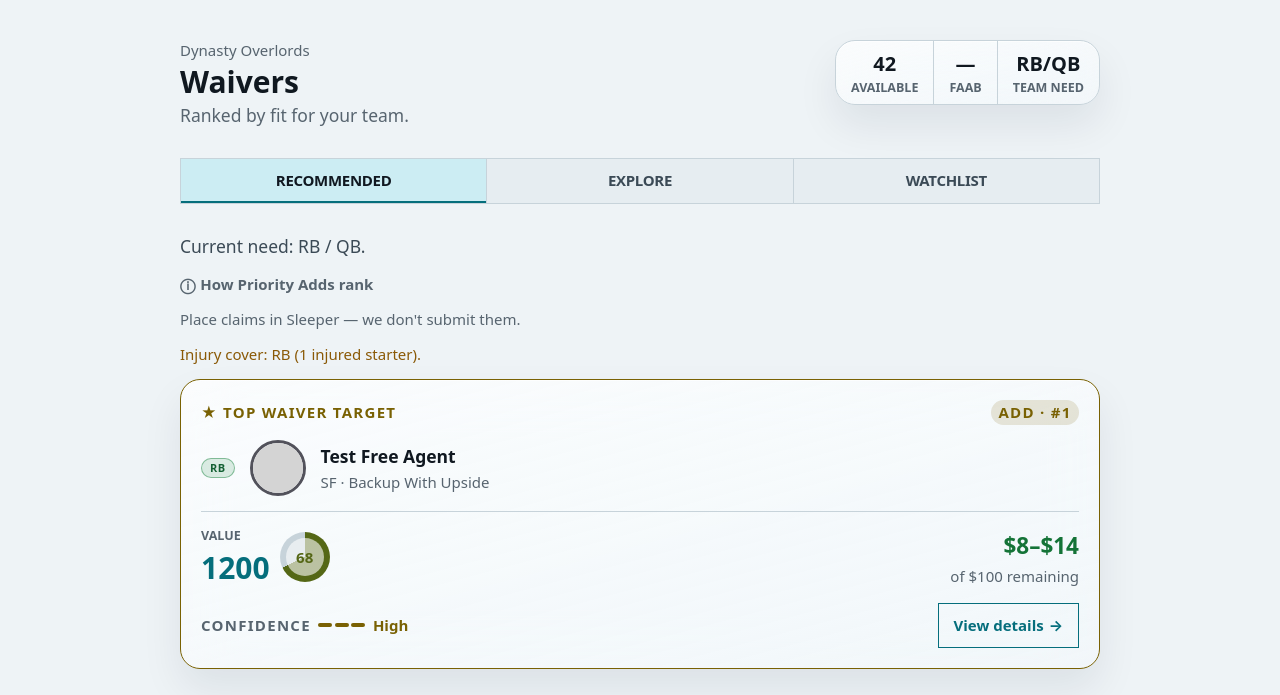
WaiversContent › Explore tab shows the searchable free-agent list
This screenshot has width=1280, height=695.
Expected: the field with placeholder "Search free agents" is not shown
What coordinates should you click on to do the following:
click the tab "Explore"
I would click on:
 (639, 181)
Its box is [486,159,793,203].
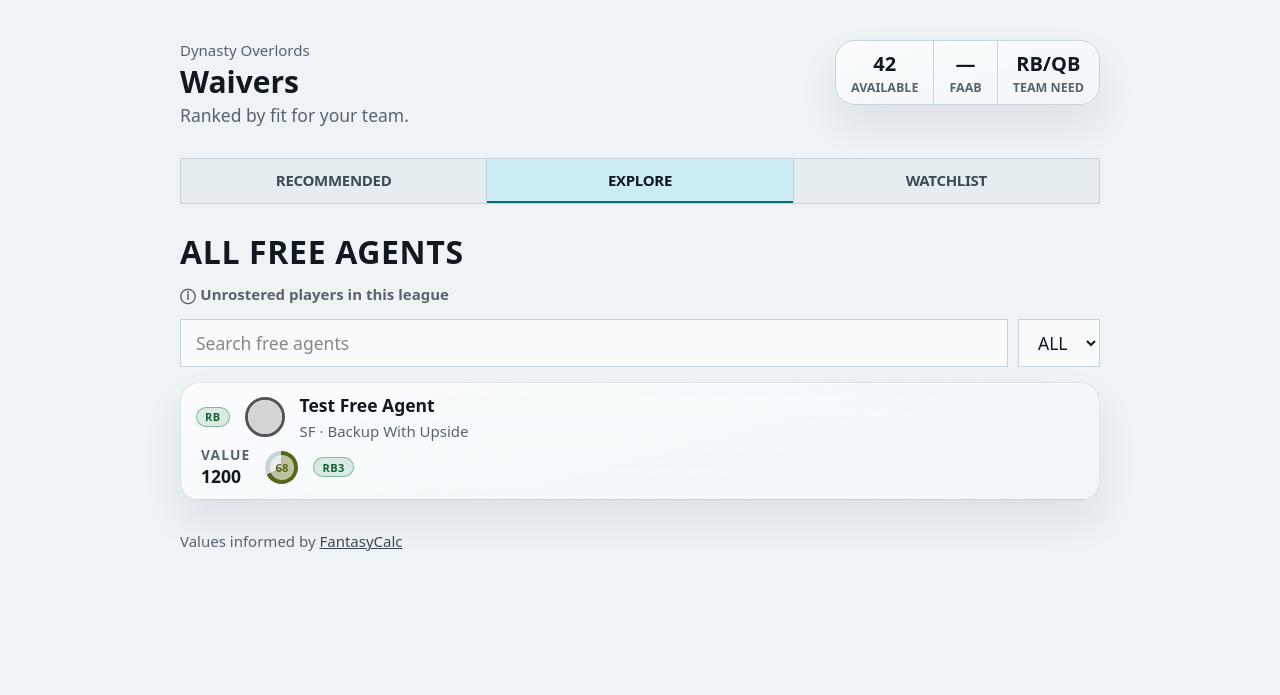
Result: the field with placeholder "Search free agents" is shown at [180,319,1008,367]
